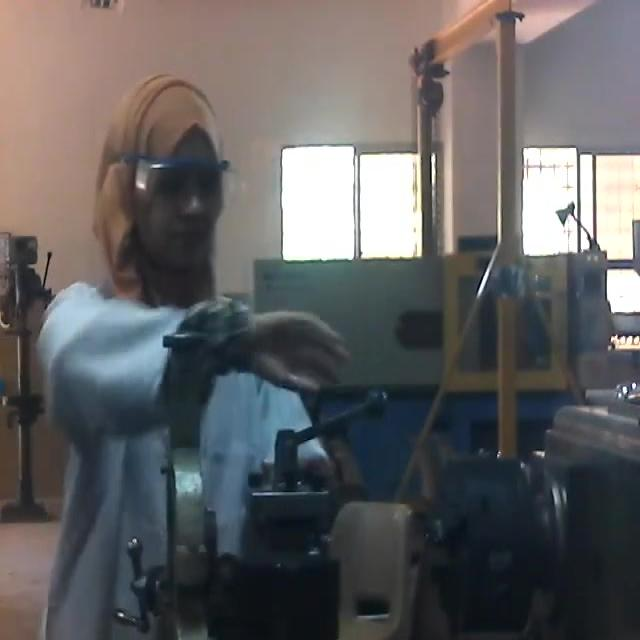googles: (131, 154, 234, 208)
labcoat: (39, 277, 330, 635)
